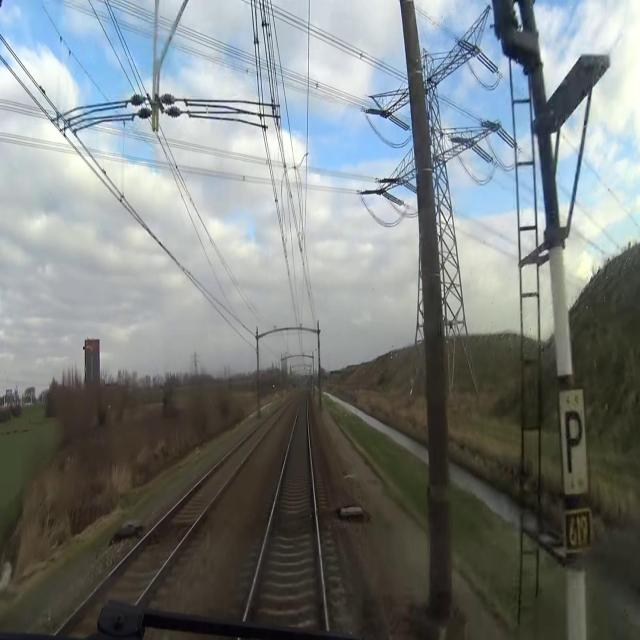rail-track: (56, 416, 275, 639), (247, 398, 324, 630)
